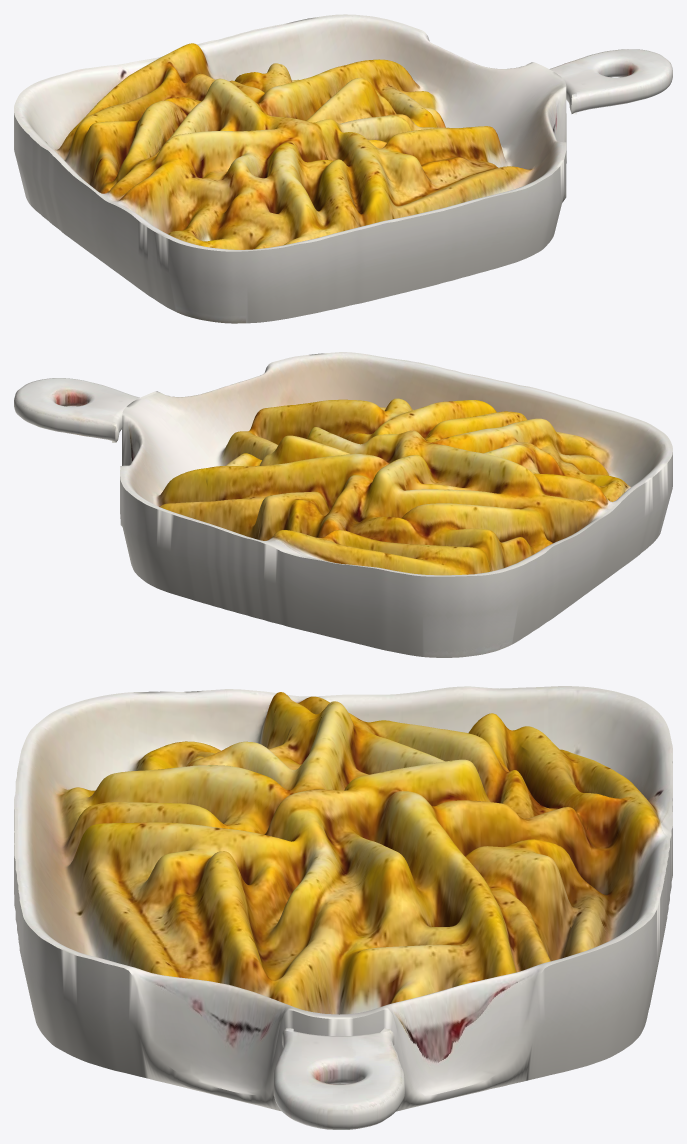
The model's file is fries.glb.
3 views of the same model, one above another, from view 1: azimuth 30°, elevation 25°; view 2: azimuth 150°, elevation 25°; view 3: azimuth 270°, elevation 25° (orthographic). The views are drawn at different scales.
Parts seen in each view (by area): view 1: fries_dish, fries_handle; view 2: fries_dish, fries_handle; view 3: fries_dish, fries_handle.
Boxes of the visible parts, x1,y1,x2,y2 form: fries_dish: [14, 14, 566, 323]; fries_handle: [549, 49, 672, 114]; fries_dish: [120, 352, 672, 657]; fries_handle: [14, 378, 139, 442]; fries_dish: [14, 686, 672, 1111]; fries_handle: [273, 1028, 404, 1129].
Bounding box in the file's own units: 0.2333 × 0.0428 × 0.1608.
2 materials, 2 textured.
